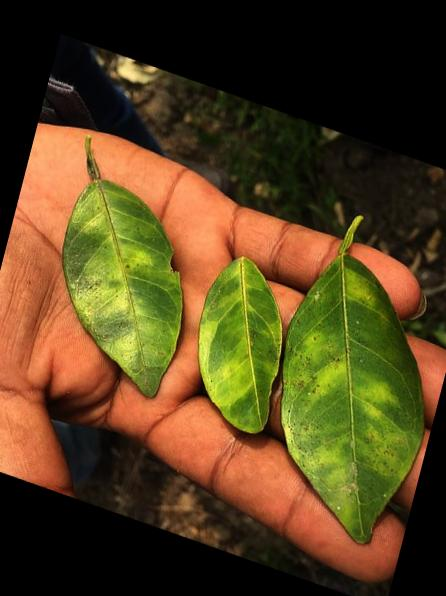Citrus Greening: (242, 185, 446, 553), (27, 124, 221, 409), (172, 233, 306, 440)
